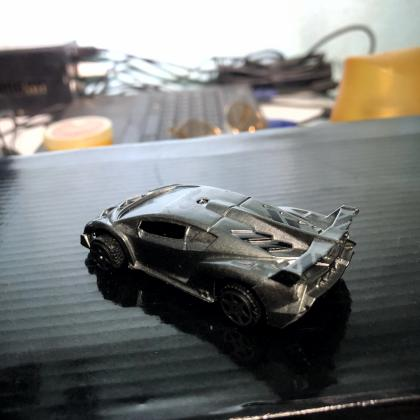Car: (72, 177, 366, 335)
